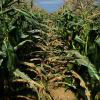Corn leaf blight: (61, 67, 93, 99), (15, 68, 44, 99), (64, 58, 99, 77), (20, 61, 42, 79), (48, 75, 73, 86)
